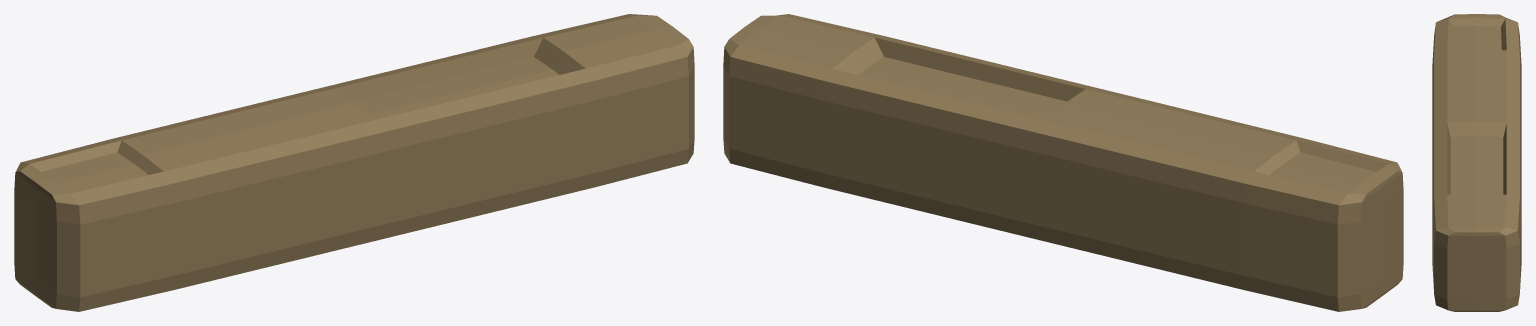
File: coffee back mesa.fbx
3 views of the same model, side by side, from view 1: azimuth 30°, elevation 25°; view 2: azimuth 150°, elevation 25°; view 3: azimuth 270°, elevation 25° (orthographic). The views are drawn at different scales.
Parts seen in each view (by area): view 1: Coffee shop.001; view 2: Coffee shop.001; view 3: Coffee shop.001.
Part boxes in pixels (x1,y1,x2,y2): Coffee shop.001: [14, 14, 694, 311]; Coffee shop.001: [723, 14, 1403, 311]; Coffee shop.001: [1432, 14, 1521, 311].
Bounding box in the file's own units: 11.57 × 1.99 × 2.
